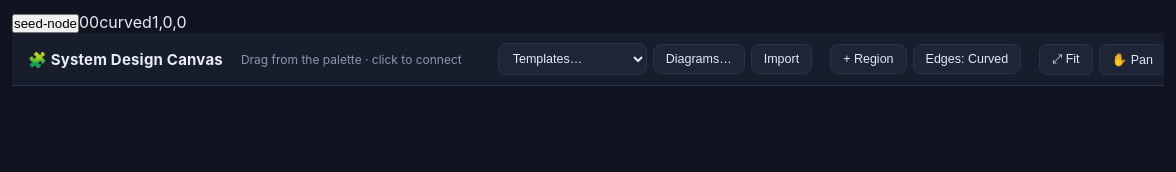
Test: Toolbar › template select without existing nodes loads without a confirm dialog
Select "URL Shortener" in the dropdown named "Templates" at (572, 59), box [498,43,647,75]
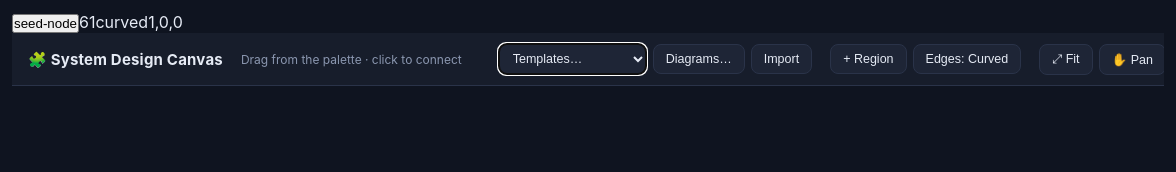
Result: the text with test id "node-count" reads "6" at [79,12,89,32]
